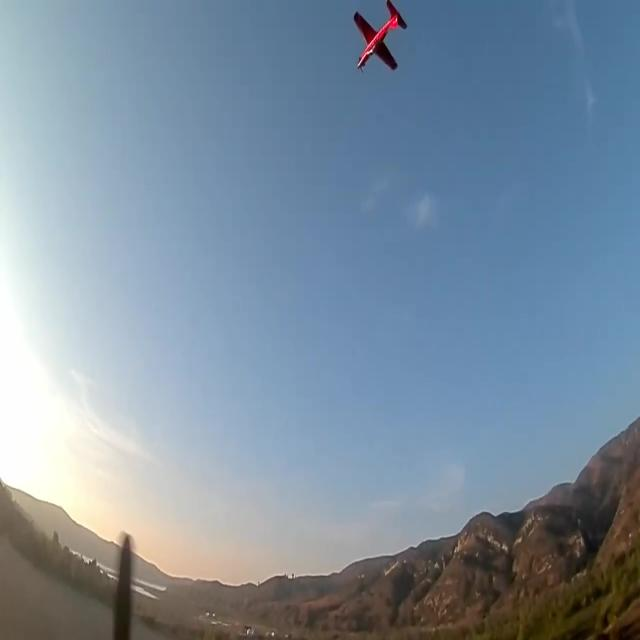iha: (353, 35, 408, 39)
